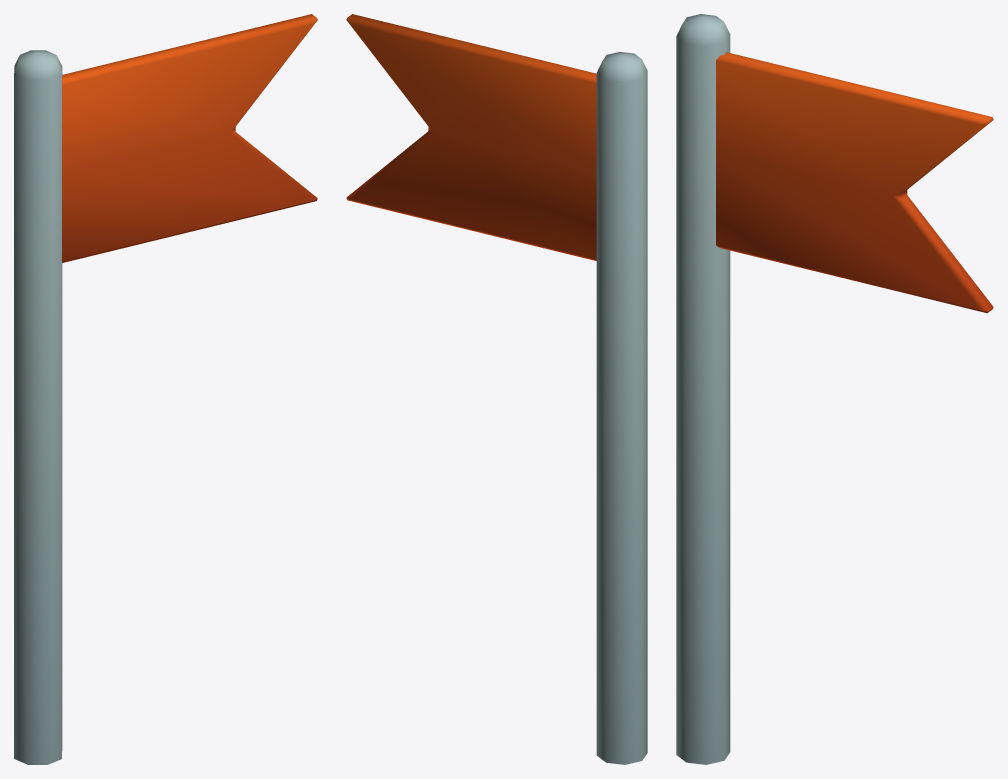
Rendered from flag.glb.
3 views of the same model, side by side, from view 1: azimuth 30°, elevation 25°; view 2: azimuth 150°, elevation 25°; view 3: azimuth 330°, elevation 25° (orthographic). The views are drawn at different scales.
Visible parts, largest first — view 1: flag; view 2: flag; view 3: flag.
Part boxes in pixels (x1,y1,x2,y2): flag: (14,14,317,764); flag: (346,14,647,764); flag: (676,14,993,764).
Size of the model in its own units: 0.4465 by 1 by 0.0663.
Materials: 1 (1 with a texture image).
